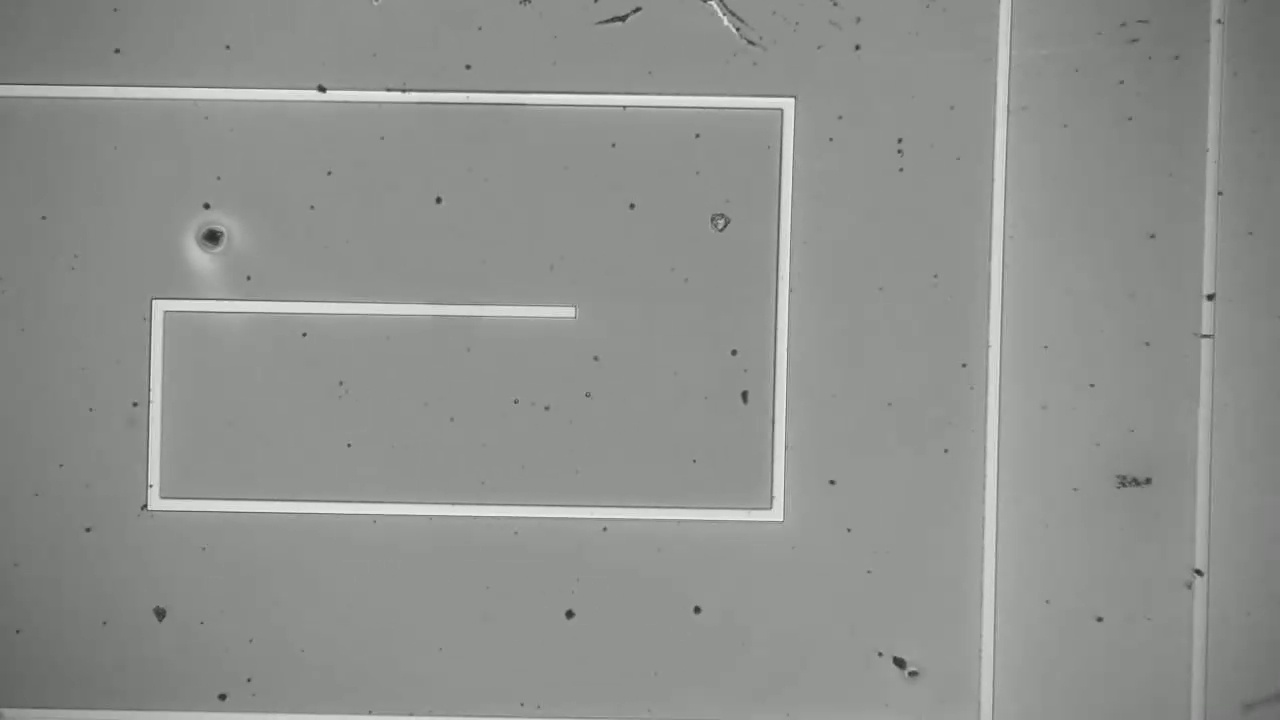open: (1194, 326, 1220, 352)
stains_enbedded: (1180, 557, 1215, 581), (1198, 282, 1220, 308)
